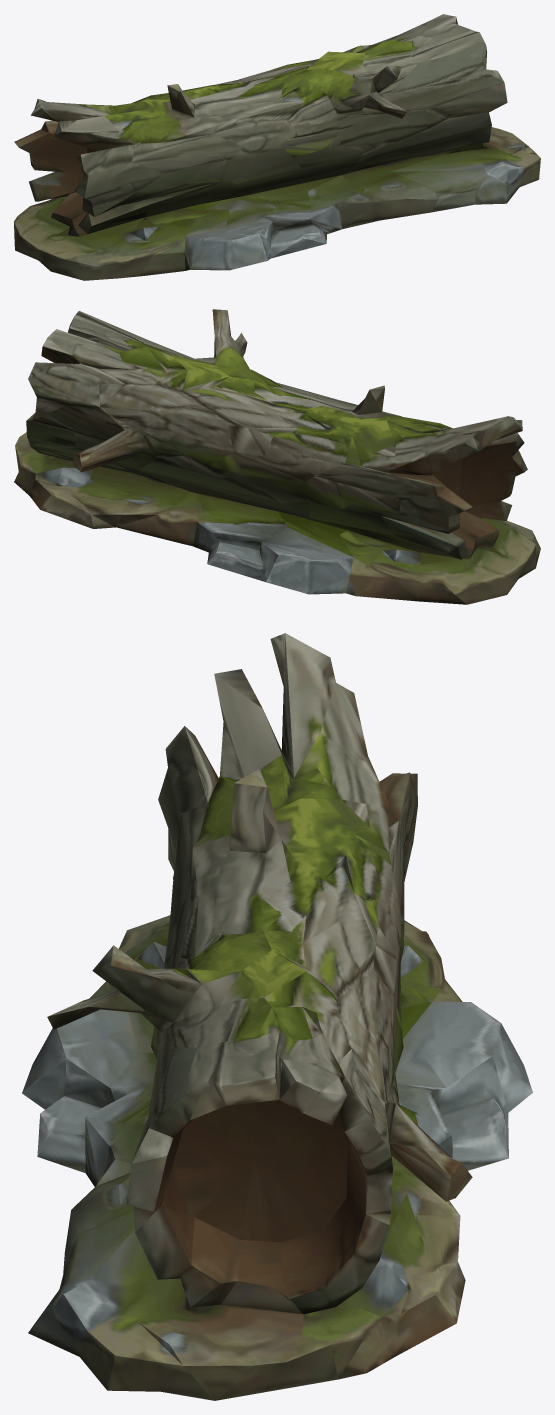
3 renders of one model, top to bottom at view 1: azimuth 30°, elevation 25°; view 2: azimuth 150°, elevation 25°; view 3: azimuth 270°, elevation 25°, orthographic. The views are drawn at different scales.
Visible parts, largest first — view 1: fallen_log; view 2: fallen_log; view 3: fallen_log.
Part boxes in pixels (x1,y1,x2,y2): fallen_log: (14, 14, 540, 280); fallen_log: (14, 309, 540, 604); fallen_log: (22, 633, 532, 1400).
Bounding box in the file's own units: 0.9764 × 0.3067 × 0.4513.
Materials: 1 (1 with a texture image).
